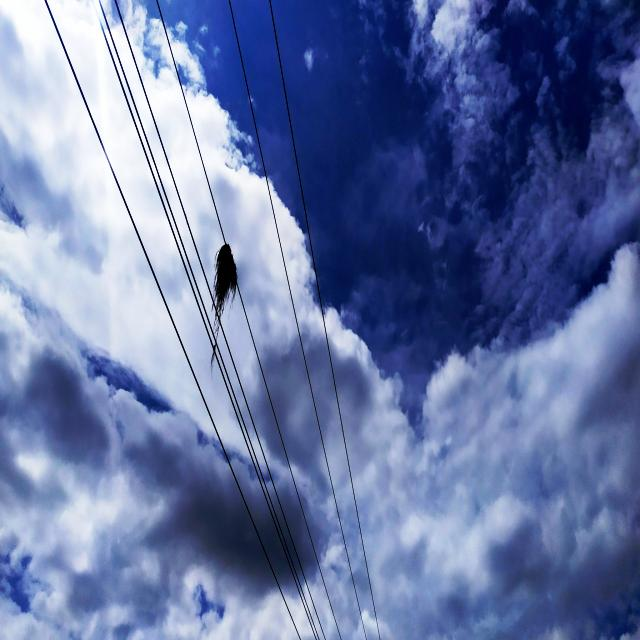obstruction: (207, 236, 243, 370)
wires: (41, 0, 307, 639), (226, 2, 389, 639), (215, 294, 351, 639)
